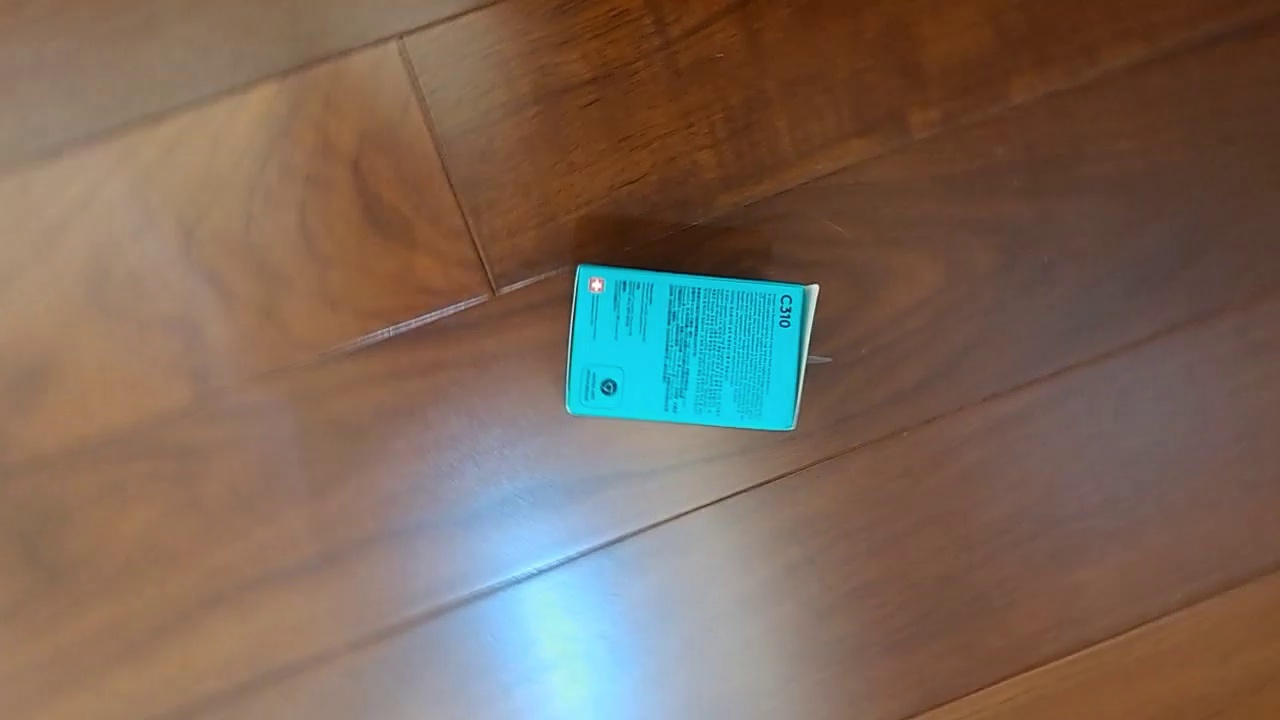webcam: (564, 263, 821, 432)
